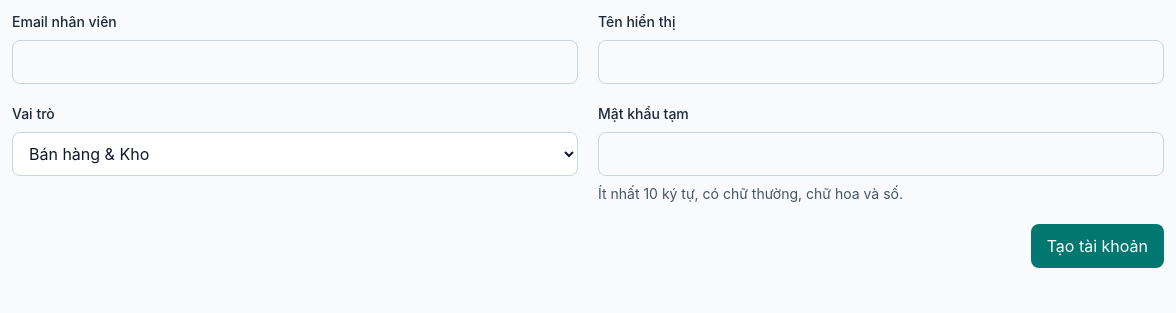
StaffForm › validates Vietnamese fields and excludes OWNER from role choices
In the field labelled "Email nhân viên": (295, 62) [12,40,578,84], type "email-sai"
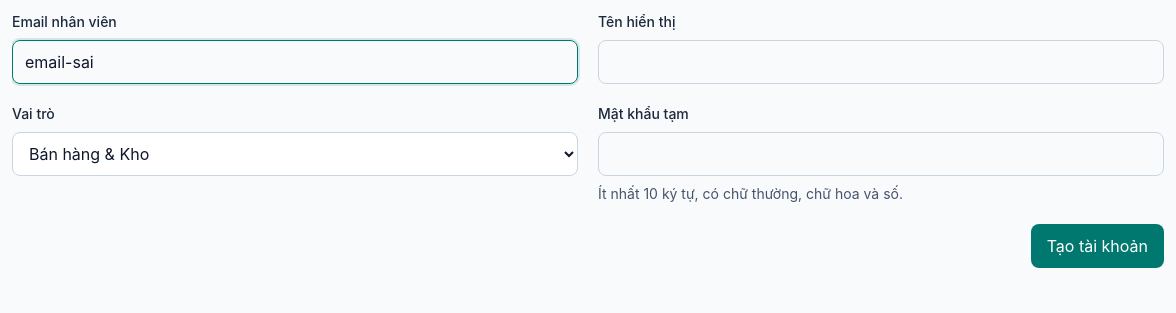
Click the button "Tạo tài khoản": click(1097, 246) [1031,224,1164,268]
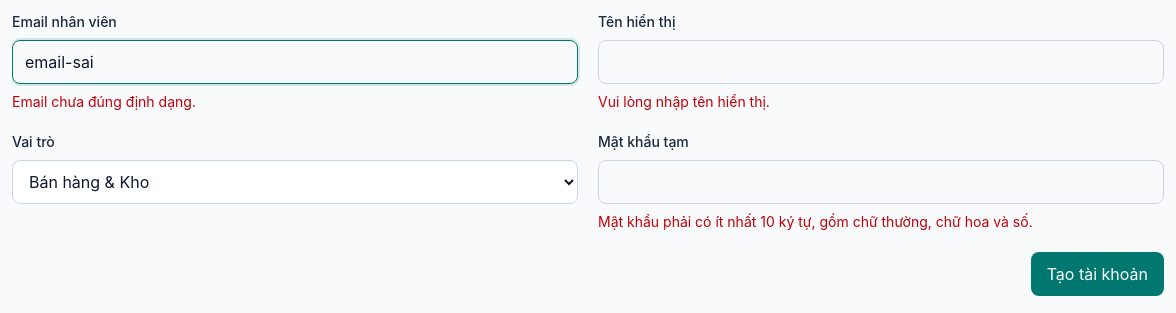
Result: the text "Email chưa đúng định dạng." is shown at [12,93,196,110]
Result: the text "Vui lòng nhập tên hiển thị." is shown at [598,93,770,110]
Result: the text "Mật khẩu phải có ít nhất 10 ký tự, gồm chữ thường, chữ hoa và số." is shown at [598,213,1033,230]
